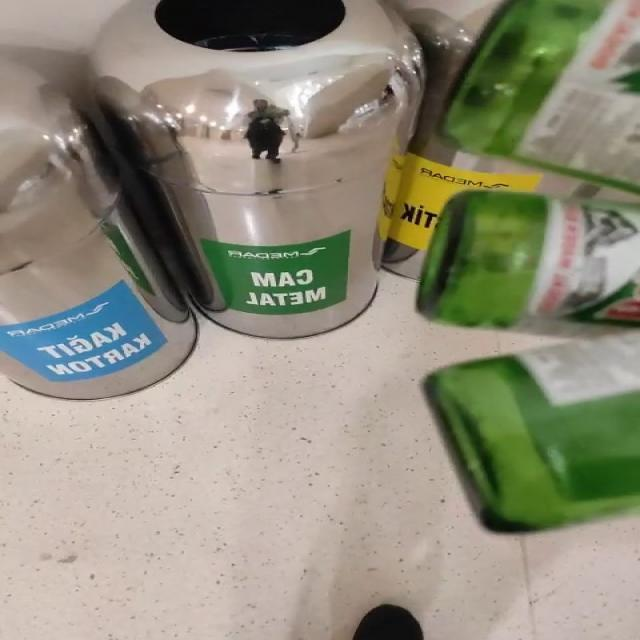Bin: (91, 0, 423, 338)
Glass: (427, 335, 637, 532), (444, 0, 640, 192), (417, 190, 640, 337)
